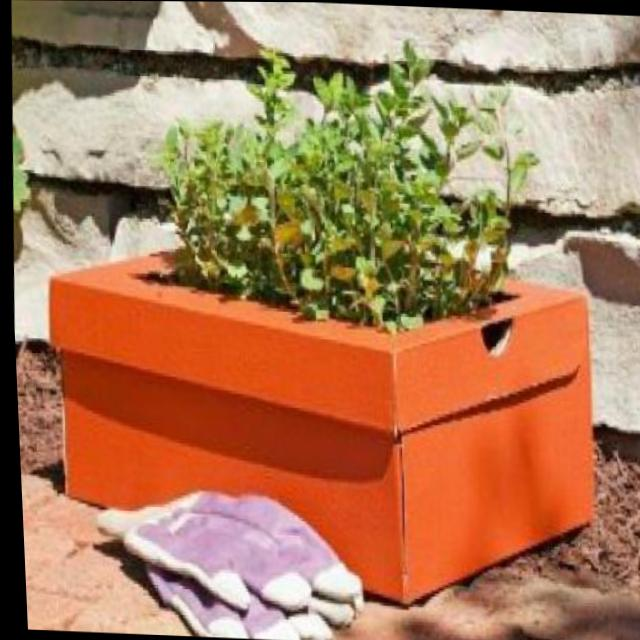box: (24, 232, 632, 615)
